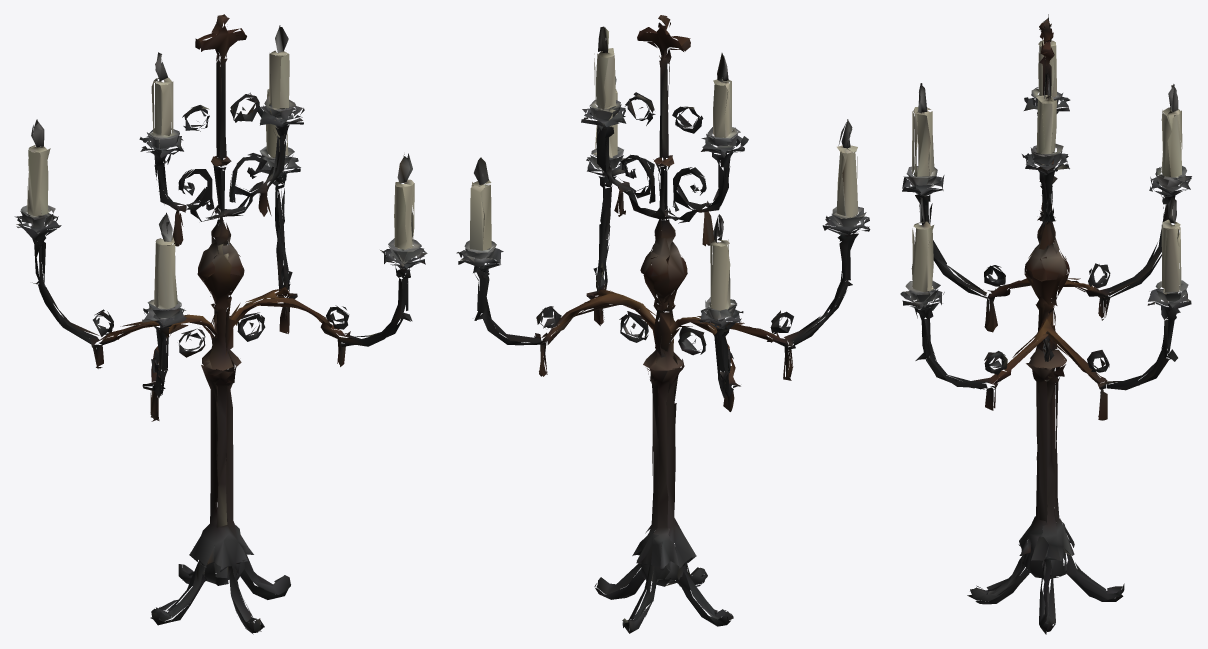
Rendered from tree_4.glb.
The picture shows the model from 3 angles, left to right: view 1: azimuth 30°, elevation 25°; view 2: azimuth 150°, elevation 25°; view 3: azimuth 270°, elevation 25°; orthographic projection. The views are drawn at different scales.
Parts seen in each view (by area): view 1: geometry_0; view 2: geometry_0; view 3: geometry_0.
Boxes of the visible parts, box(x1,y1,x2,y2) form: geometry_0: box(14, 14, 427, 634); geometry_0: box(456, 15, 870, 633); geometry_0: box(900, 14, 1191, 634).
Bounding box in the file's own units: 28.23 × 56.05 × 25.53.
